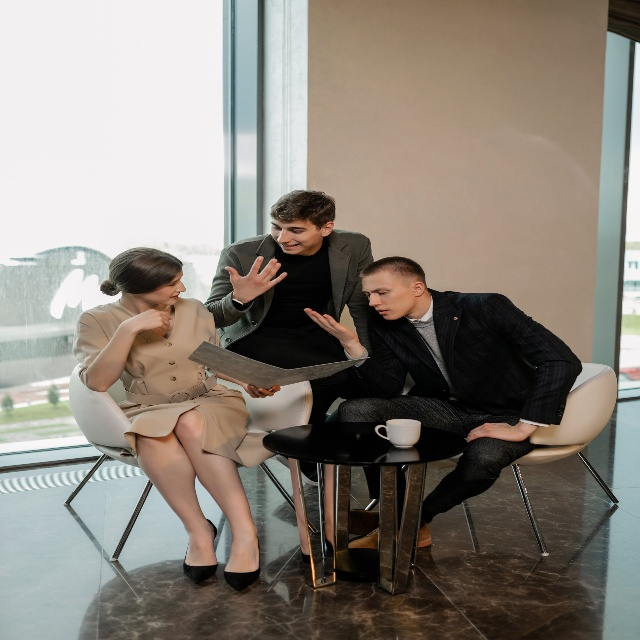Sin_guantes: (223, 255, 288, 304), (303, 305, 358, 347), (124, 308, 173, 340), (464, 417, 519, 443)
